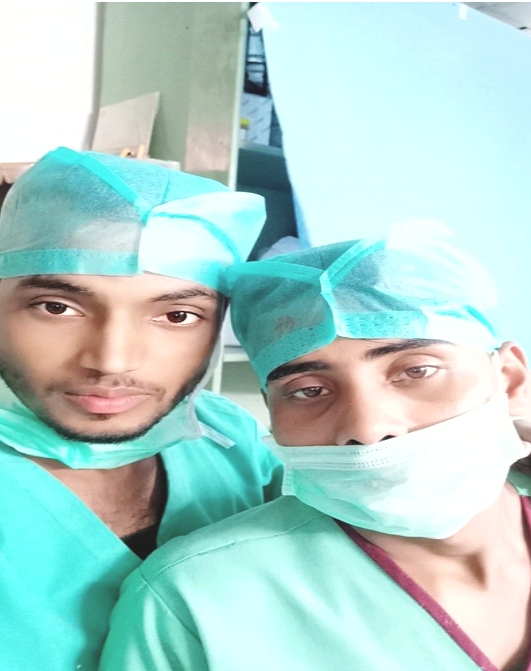mask_weared_incorrect: (227, 216, 517, 543)
